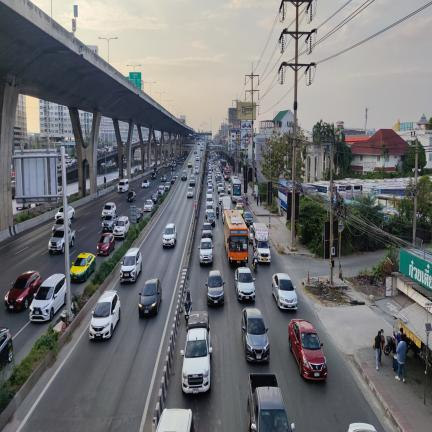bus: (224, 209, 248, 264), (230, 176, 242, 202), (223, 167, 231, 181), (220, 160, 226, 172)
car: (288, 319, 327, 380), (29, 274, 66, 321), (89, 291, 121, 339), (242, 307, 269, 362), (5, 271, 42, 310), (272, 273, 298, 309), (138, 278, 162, 317), (120, 248, 142, 282), (205, 270, 225, 305), (235, 267, 255, 300), (199, 238, 214, 265), (97, 233, 115, 255), (113, 216, 130, 239), (162, 223, 176, 247), (102, 215, 117, 232), (102, 202, 116, 219), (52, 217, 64, 235), (201, 222, 212, 238), (242, 211, 253, 227), (205, 202, 214, 219), (143, 199, 154, 211), (135, 207, 143, 223), (207, 211, 215, 226), (55, 206, 64, 219), (248, 225, 254, 244), (127, 191, 136, 202), (206, 195, 214, 207), (68, 206, 75, 219), (150, 193, 158, 204), (157, 185, 165, 196), (219, 190, 225, 204), (187, 186, 194, 198), (236, 198, 244, 208), (142, 179, 150, 188), (189, 175, 195, 186), (217, 183, 223, 193), (208, 184, 214, 194), (206, 193, 213, 201), (206, 188, 213, 196), (151, 171, 157, 179), (161, 174, 166, 183), (187, 160, 192, 168), (194, 166, 199, 174), (227, 185, 231, 194), (171, 165, 175, 173), (195, 155, 200, 161), (68, 220, 71, 228), (175, 173, 179, 179), (168, 161, 172, 166), (206, 212, 208, 217)
motorbike: (384, 329, 396, 355), (384, 331, 396, 355), (406, 339, 417, 357), (184, 300, 192, 322), (253, 258, 258, 273), (216, 207, 219, 218), (224, 183, 226, 190)
pickup: (248, 374, 294, 432), (252, 223, 271, 263), (48, 228, 65, 254), (68, 228, 75, 247), (165, 182, 171, 191), (171, 176, 176, 184), (68, 220, 71, 228)
taxi: (70, 253, 96, 282), (235, 204, 243, 215), (227, 185, 231, 194), (187, 160, 192, 167)
truck: (179, 310, 211, 394), (222, 196, 231, 223)
van: (118, 179, 129, 193)
